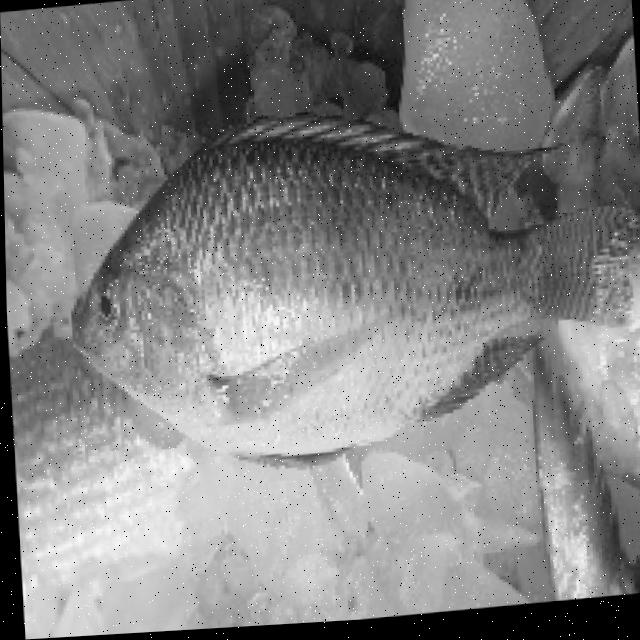Fresh: (50, 99, 640, 464)
